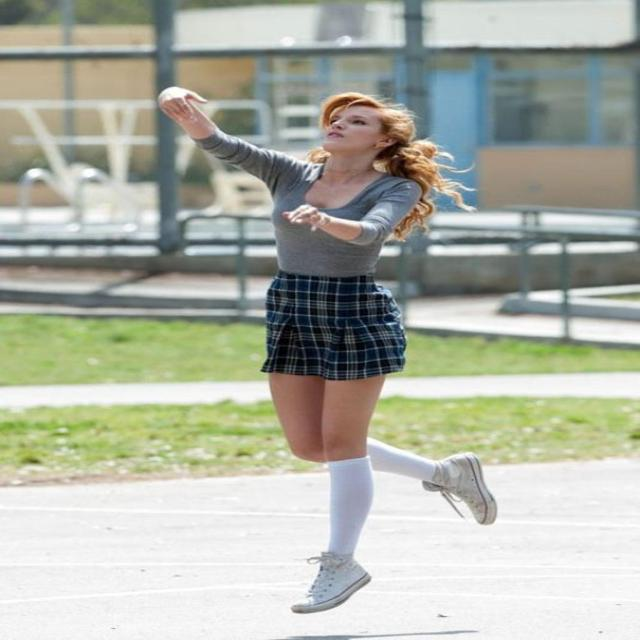Face: (314, 96, 420, 159)
